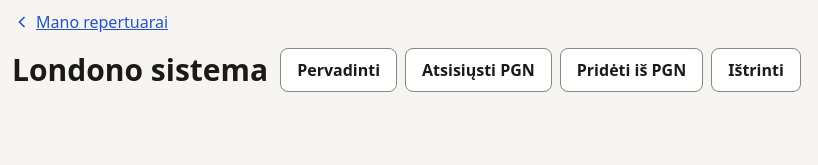
RepertoireHeader › renames in place of the name and says it was saved
Click the button "Pervadinti" at (339, 70), box [280,48,397,92]
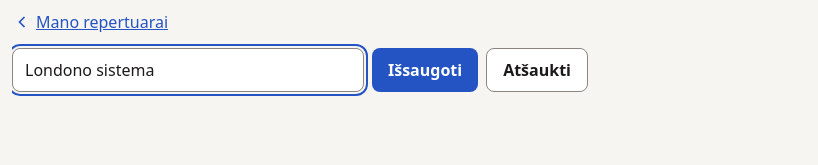
expect the field named "Repertuaro pavadinimas" holds "Londono sistema": met
Replace the text in the field named "Repertuaro pavadinimas" with "Londonas" at (188, 70), box [12,48,364,92]
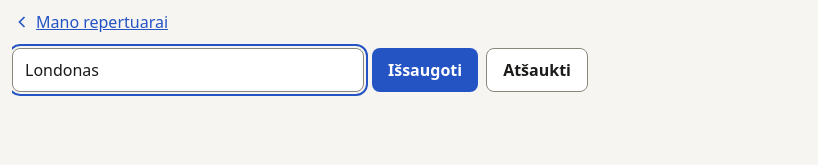
Click the button "Išsaugoti" at (425, 70), box [372,48,478,92]
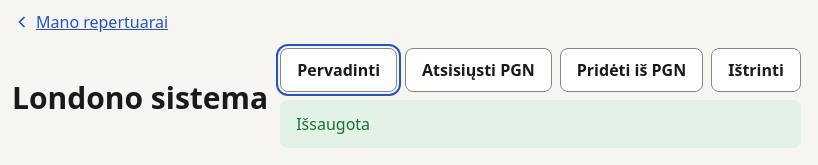
expect the field labelled "Repertuaro pavadinimas" is not shown: met
expect the text "Išsaugota" is shown: met, box [280,100,801,148]
